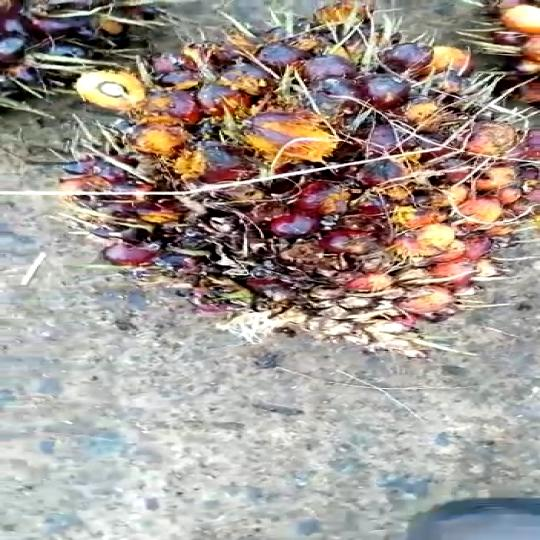masak: (71, 4, 540, 346)
